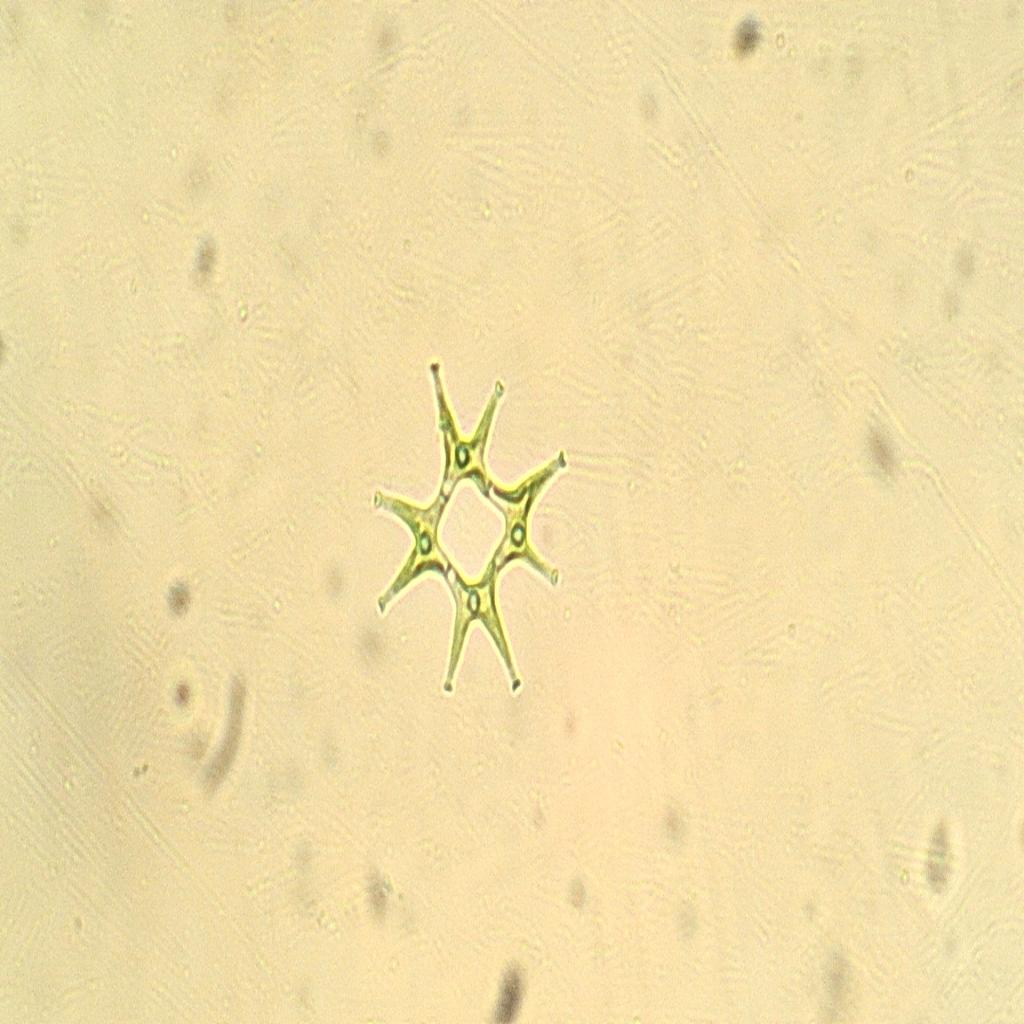Pediastrum_CO: (363, 317, 582, 729)
